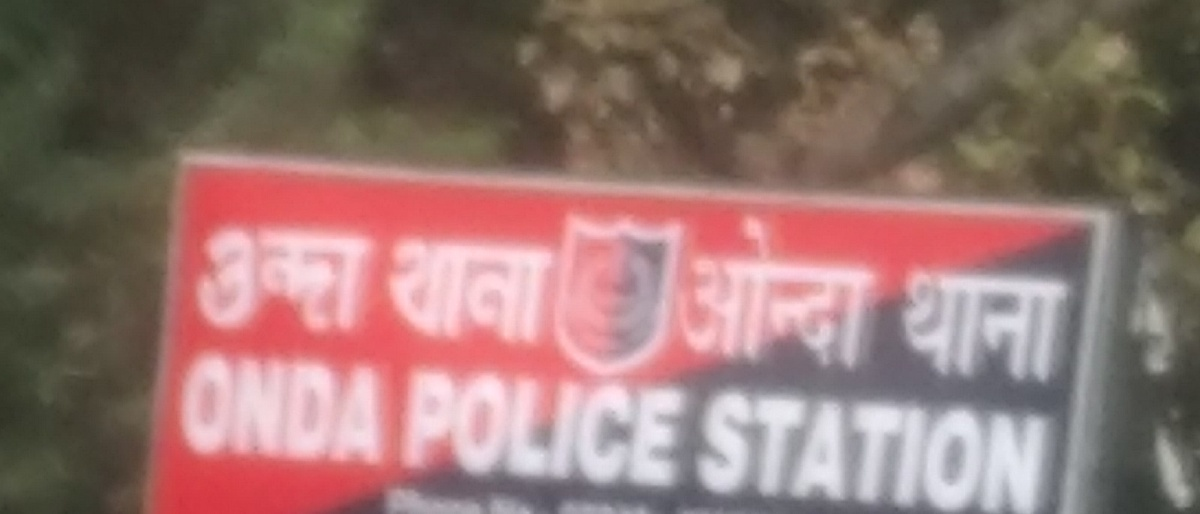text: (705, 211, 720, 384), (721, 211, 736, 384), (737, 211, 752, 384), (753, 211, 768, 384), (769, 211, 784, 384), (785, 211, 800, 384), (801, 211, 816, 384), (817, 211, 832, 384), (833, 211, 848, 384), (849, 211, 864, 384), (865, 211, 880, 384), (690, 211, 704, 384), (881, 211, 895, 384), (1041, 381, 1057, 513), (417, 359, 432, 498), (433, 359, 448, 498), (449, 359, 464, 498), (465, 359, 480, 498), (481, 359, 496, 498), (497, 359, 512, 498), (513, 359, 528, 498), (529, 359, 544, 498), (545, 359, 560, 498), (561, 359, 576, 498), (577, 359, 592, 498), (593, 359, 608, 498), (609, 359, 624, 498), (625, 359, 640, 498), (641, 359, 656, 498), (657, 359, 672, 498), (673, 359, 688, 498), (913, 258, 928, 396), (929, 258, 944, 396), (945, 258, 960, 396), (961, 258, 976, 396), (977, 258, 992, 396), (993, 258, 1008, 396), (1009, 258, 1024, 396), (1025, 258, 1040, 396), (1041, 258, 1056, 396), (1057, 258, 1072, 396), (193, 209, 208, 342), (209, 209, 224, 342), (225, 209, 240, 342), (241, 209, 256, 342), (257, 209, 272, 342), (273, 209, 288, 342), (289, 209, 304, 342), (305, 209, 320, 342), (321, 209, 336, 342), (337, 209, 352, 342), (353, 209, 368, 342), (193, 339, 208, 472), (209, 339, 224, 472), (225, 339, 240, 472), (241, 339, 256, 472), (257, 339, 272, 472), (273, 339, 288, 472), (289, 339, 304, 472), (305, 339, 320, 472), (321, 339, 336, 472), (337, 339, 352, 472), (353, 339, 368, 472), (369, 339, 384, 472), (705, 381, 720, 513), (721, 381, 736, 513), (737, 381, 752, 513), (753, 381, 768, 513), (769, 381, 784, 513), (785, 381, 800, 513), (801, 381, 816, 513), (817, 381, 832, 513), (833, 381, 848, 513), (849, 381, 864, 513), (865, 381, 880, 513), (881, 381, 896, 513), (897, 381, 912, 513), (913, 381, 928, 513), (929, 381, 944, 513), (945, 381, 960, 513), (961, 381, 976, 513), (977, 381, 992, 513), (993, 381, 1008, 513), (1009, 381, 1024, 513), (1025, 381, 1040, 513), (178, 339, 192, 472), (403, 359, 416, 498), (385, 233, 400, 350), (401, 233, 416, 350), (417, 233, 432, 350), (433, 233, 448, 350), (449, 233, 464, 350), (465, 233, 480, 350), (481, 233, 496, 350), (497, 233, 512, 350), (513, 233, 528, 350), (529, 233, 544, 350), (369, 209, 382, 342), (900, 258, 912, 396), (545, 233, 559, 350), (1073, 258, 1084, 396), (385, 339, 393, 472), (385, 480, 400, 513), (401, 480, 416, 513), (417, 480, 432, 513), (433, 480, 448, 513), (449, 480, 464, 513), (465, 480, 480, 513), (481, 480, 496, 513), (497, 480, 512, 513), (513, 480, 528, 513), (529, 480, 544, 513), (689, 359, 692, 498), (702, 381, 704, 513), (561, 496, 576, 513), (577, 496, 592, 513), (593, 496, 608, 513), (609, 496, 624, 513), (625, 496, 640, 513), (641, 496, 656, 513), (379, 480, 384, 513), (383, 233, 384, 350), (657, 496, 660, 513), (559, 496, 560, 513)
